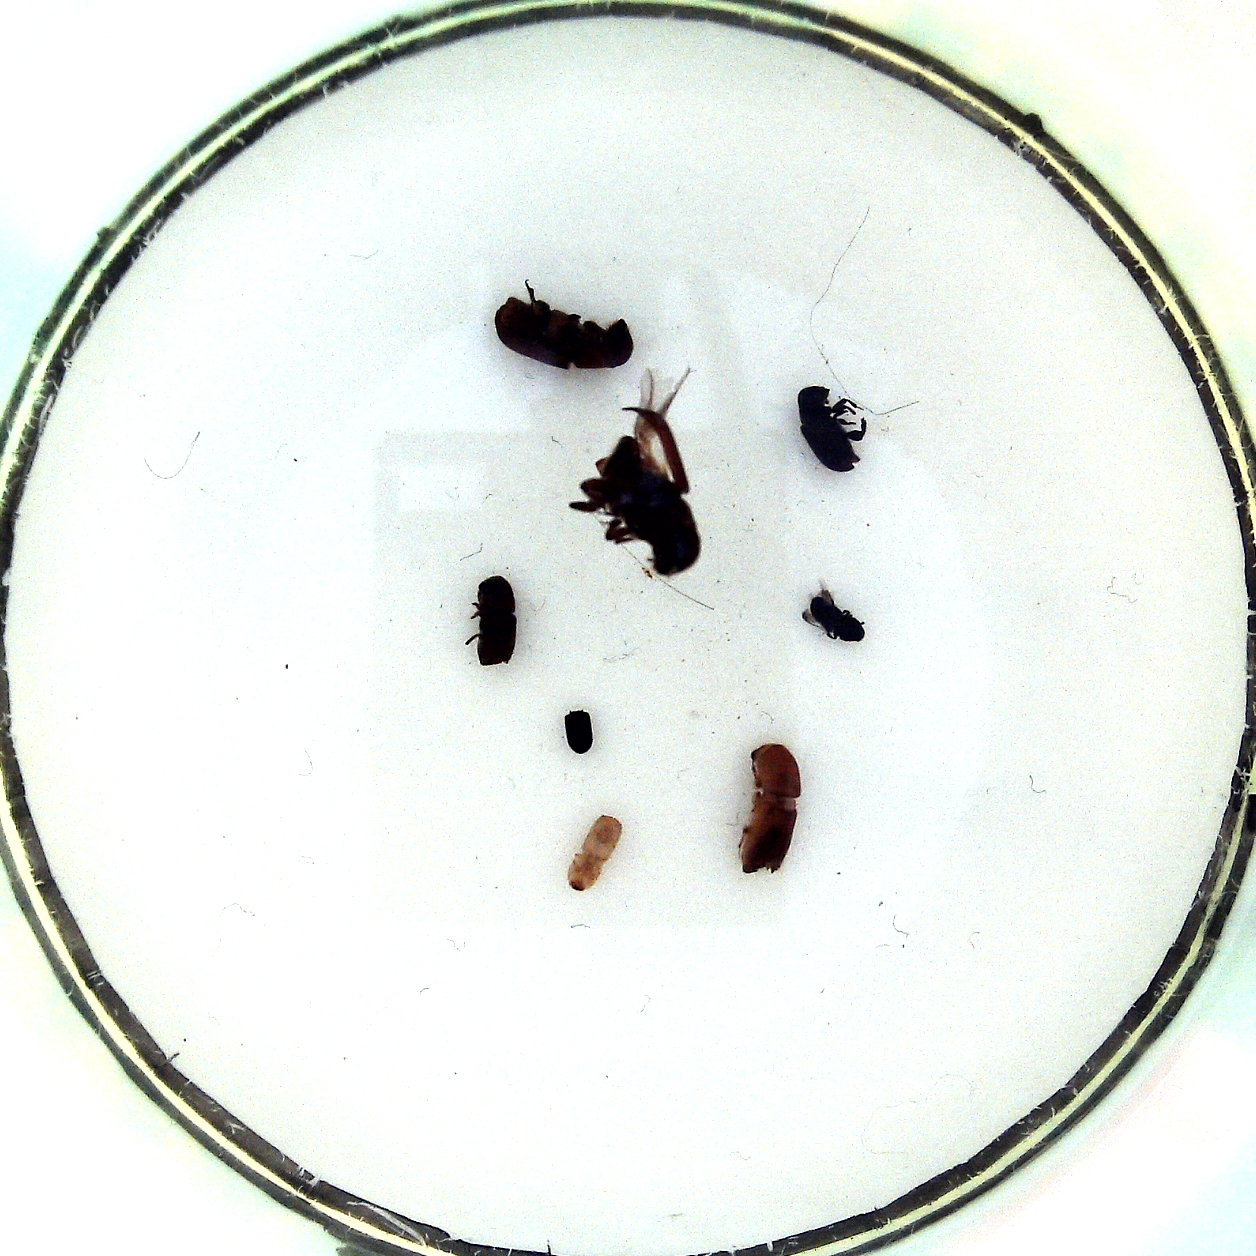Boerner: (730, 737, 804, 883)
Leconte: (557, 365, 706, 579), (487, 273, 640, 373)
Linnaeus: (464, 573, 529, 668)
acuminatus: (557, 811, 627, 894)
armandi: (792, 383, 873, 480)
coleoptera: (799, 576, 871, 652), (557, 706, 602, 760)
